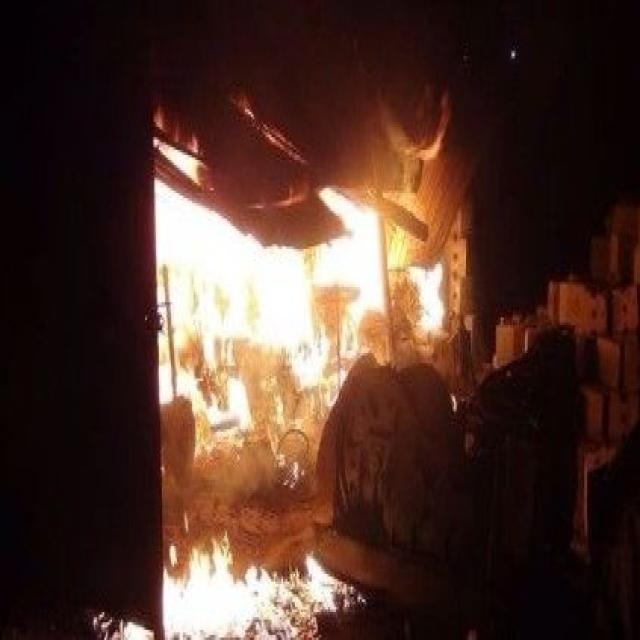fire: (154, 120, 451, 444), (159, 523, 327, 638)
